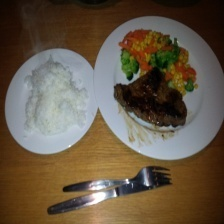rice: (14, 51, 91, 149)
